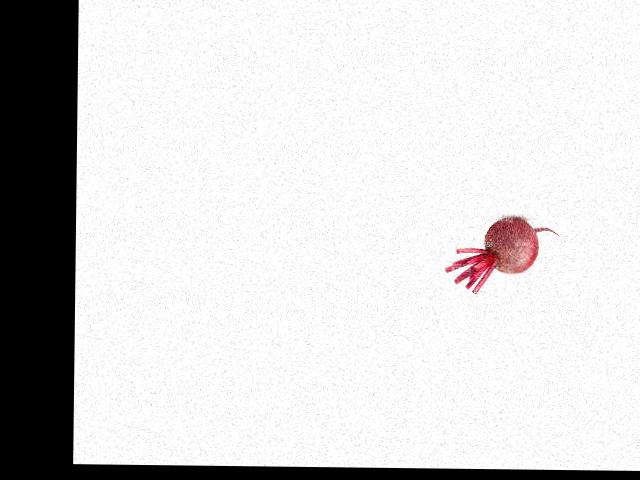beet: (444, 217, 559, 294)
